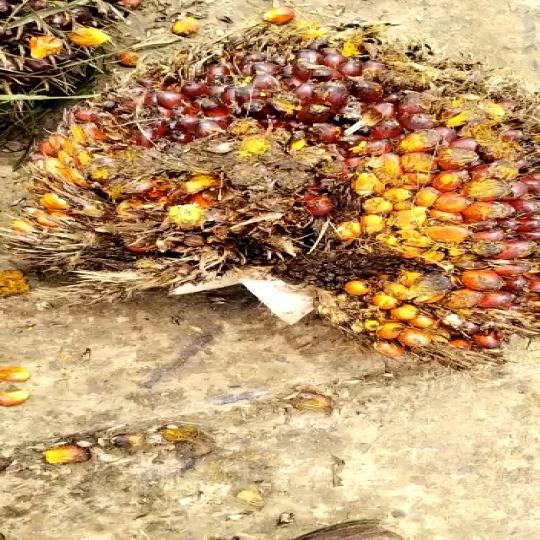masak: (0, 15, 540, 380)
